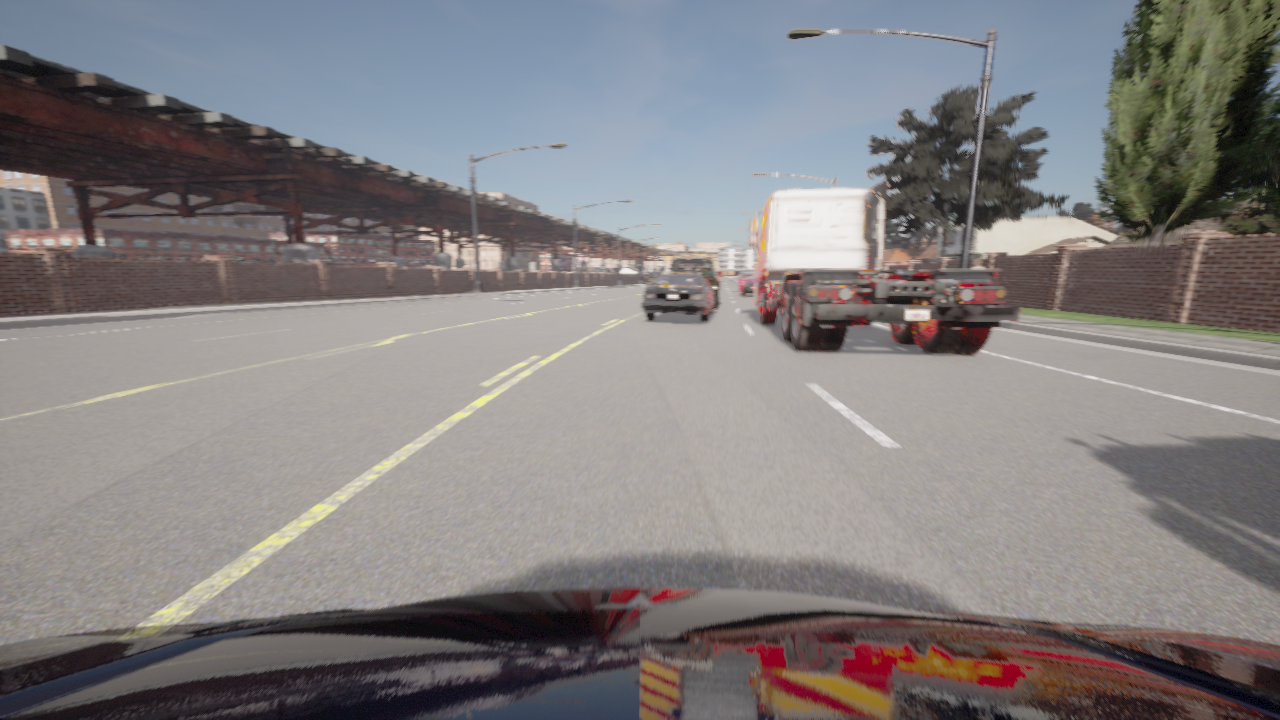cyclist: (0, 588, 1279, 719), (748, 182, 1020, 354), (642, 272, 716, 321), (668, 257, 722, 308), (737, 272, 756, 292), (740, 278, 757, 296), (719, 281, 722, 290)
pedestrian: (971, 259, 984, 269)
